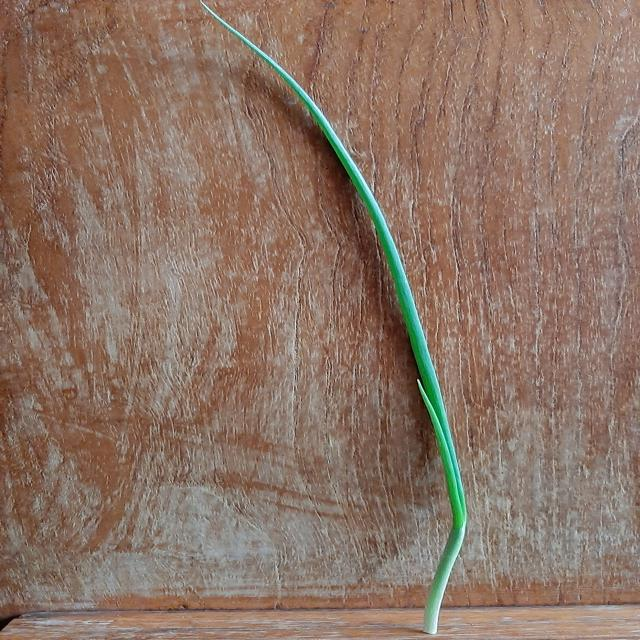onion: (201, 0, 466, 576)
